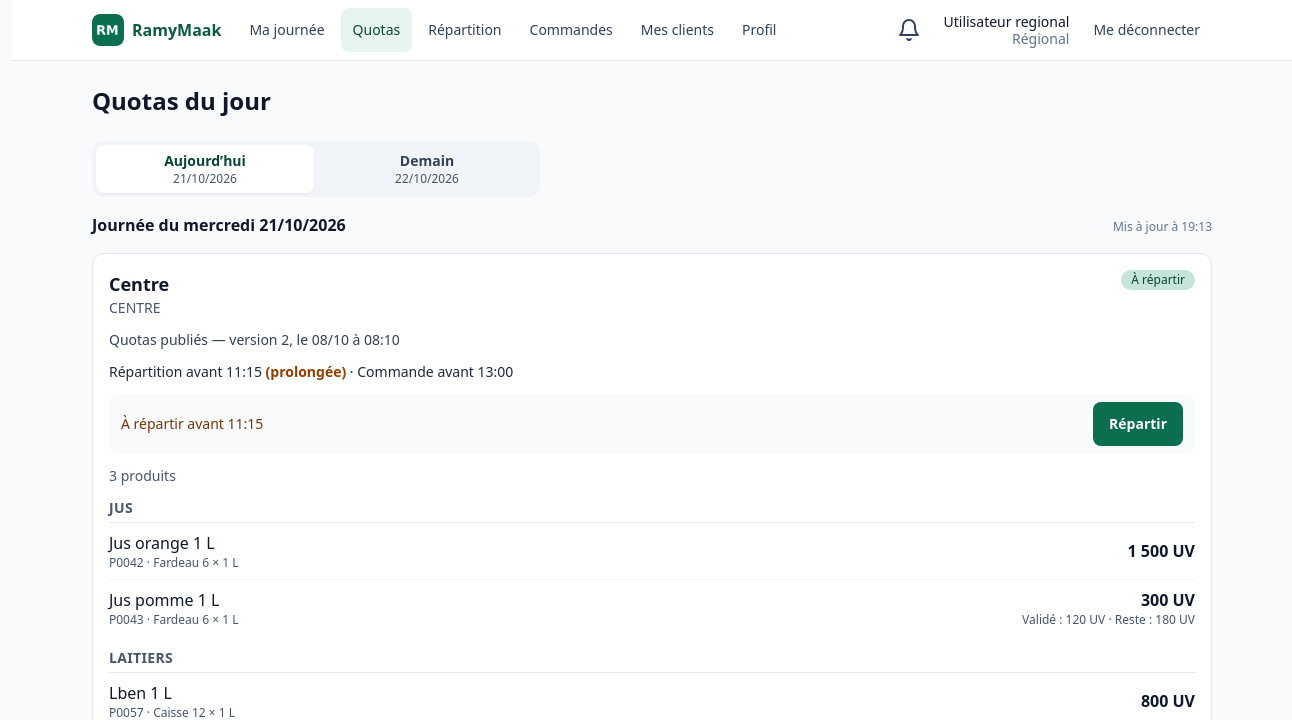
Scenario: distribution of the regions (lot 4) › offers to distribute a region whose quotas are published, before its distribution cutoff
Expected: the text with test id "region-distribution" reads "À répartir avant 11:15", [121,414,263,433]
Click the link with aria-label "Répartir — Centre" at (1138, 424), box [1093,402,1183,446]
(page scrolled)
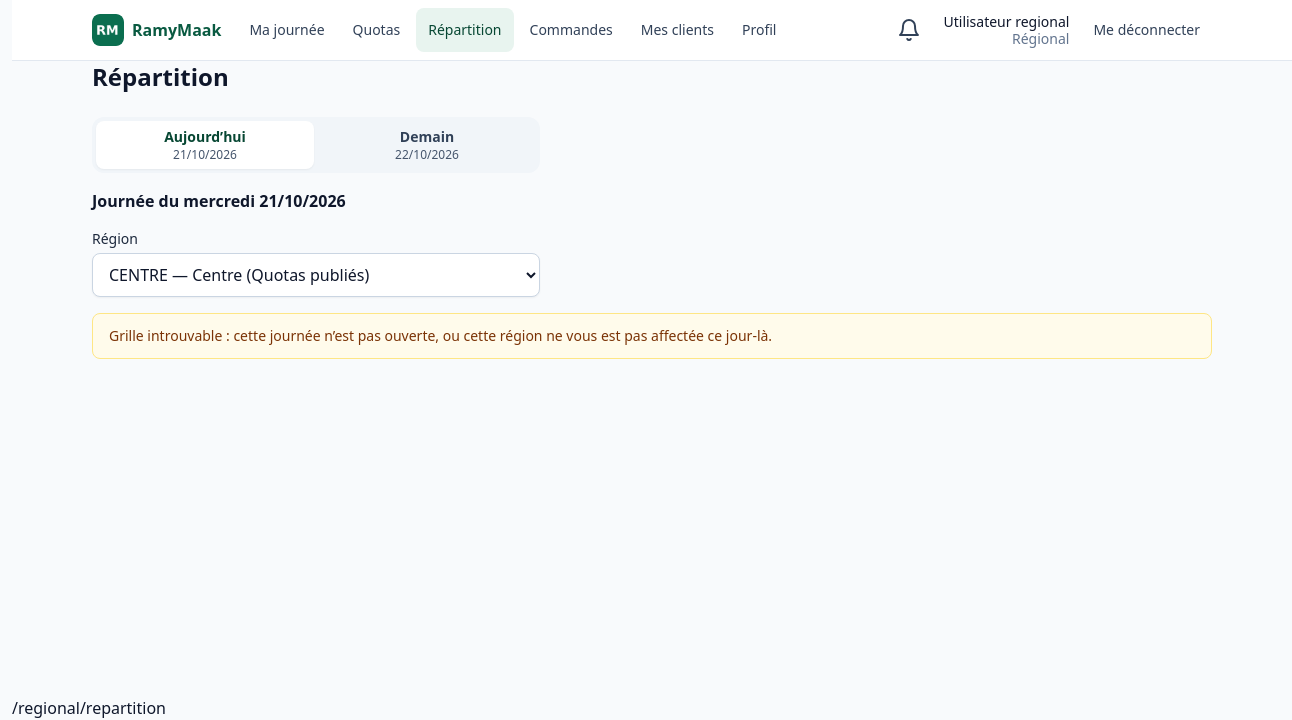
Now the text with test id "location" reads "/regional/repartition", box [12,697,166,719]
